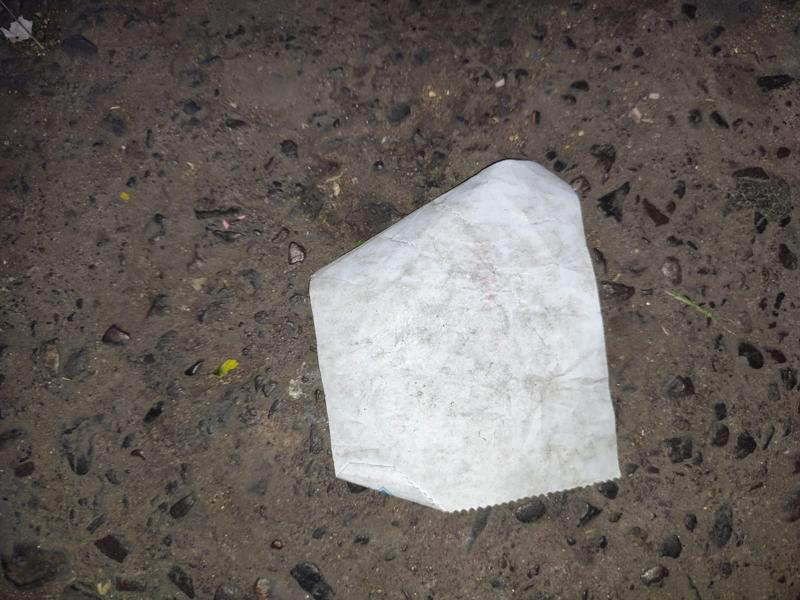papel: (308, 160, 621, 514)
